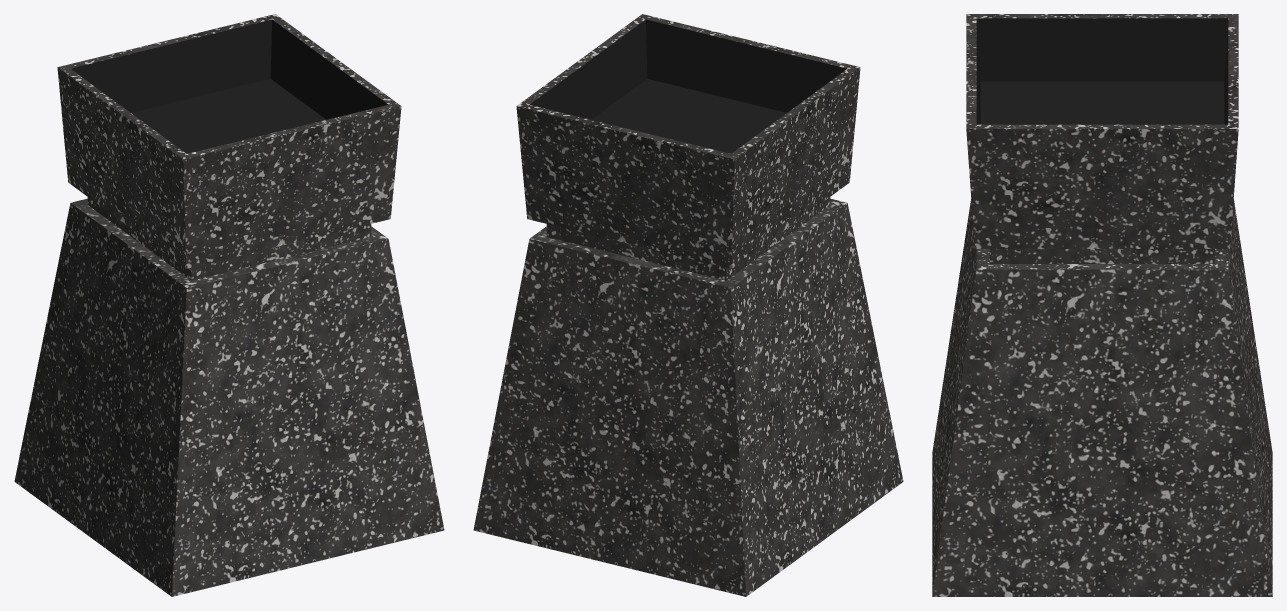
File: bishop-black.glb
3 views of the same model, side by side, from view 1: azimuth 30°, elevation 25°; view 2: azimuth 150°, elevation 25°; view 3: azimuth 270°, elevation 25° (orthographic). The views are drawn at different scales.
Visible parts, largest first — view 1: Black_Bishop; view 2: Black_Bishop; view 3: Black_Bishop.
Boxes of the visible parts, x1,y1,x2,y2 form: Black_Bishop: [14, 14, 444, 596]; Black_Bishop: [473, 14, 903, 596]; Black_Bishop: [932, 14, 1272, 596].
Size of the model in its own units: 0.6871 by 1.01 by 0.6871.
Materials: 2 (1 with a texture image).
